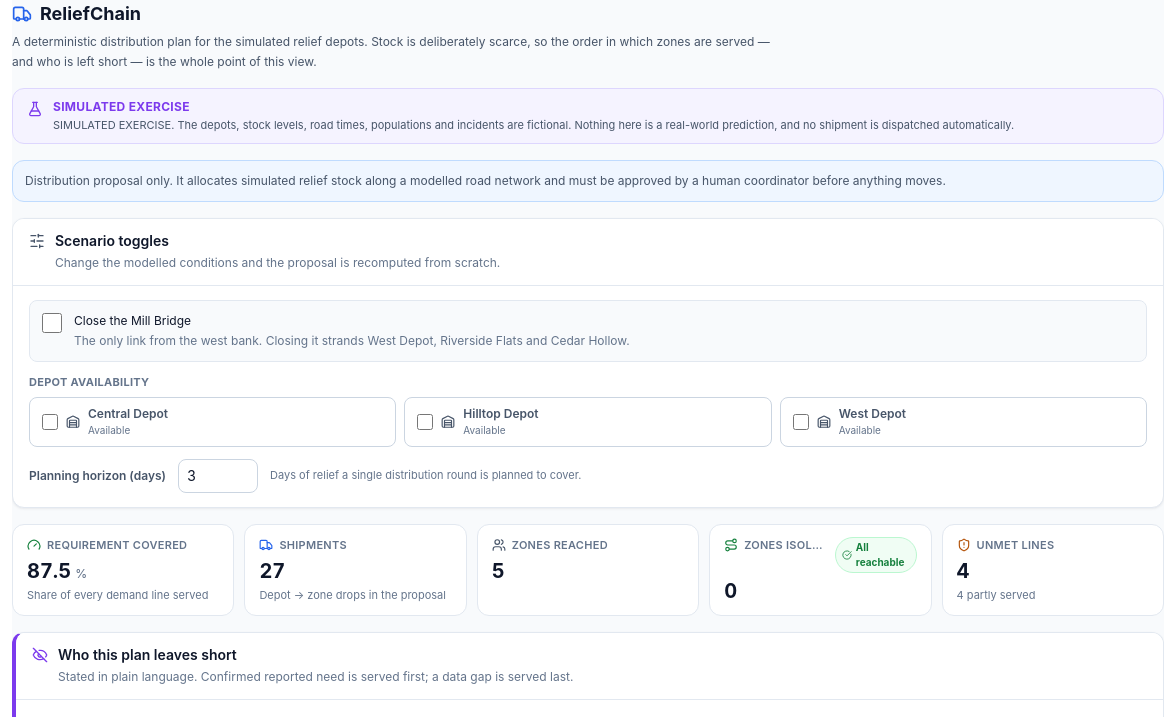
Test: ReliefChain — honesty of the proposal › recomputes from the scenario and surfaces the closed segment as a constraint
The image size is (1164, 717).
Expected: the text "Distribution proposal only. It allocates simulated relief stock along a modelled road network and must be approved by a " is shown, x1=25 y1=173 x2=946 y2=188
Click the checkbox labelled "Close the Mill Bridge".
click(52, 323)  # box x1=42 y1=313 x2=62 y2=333
(page scrolled)
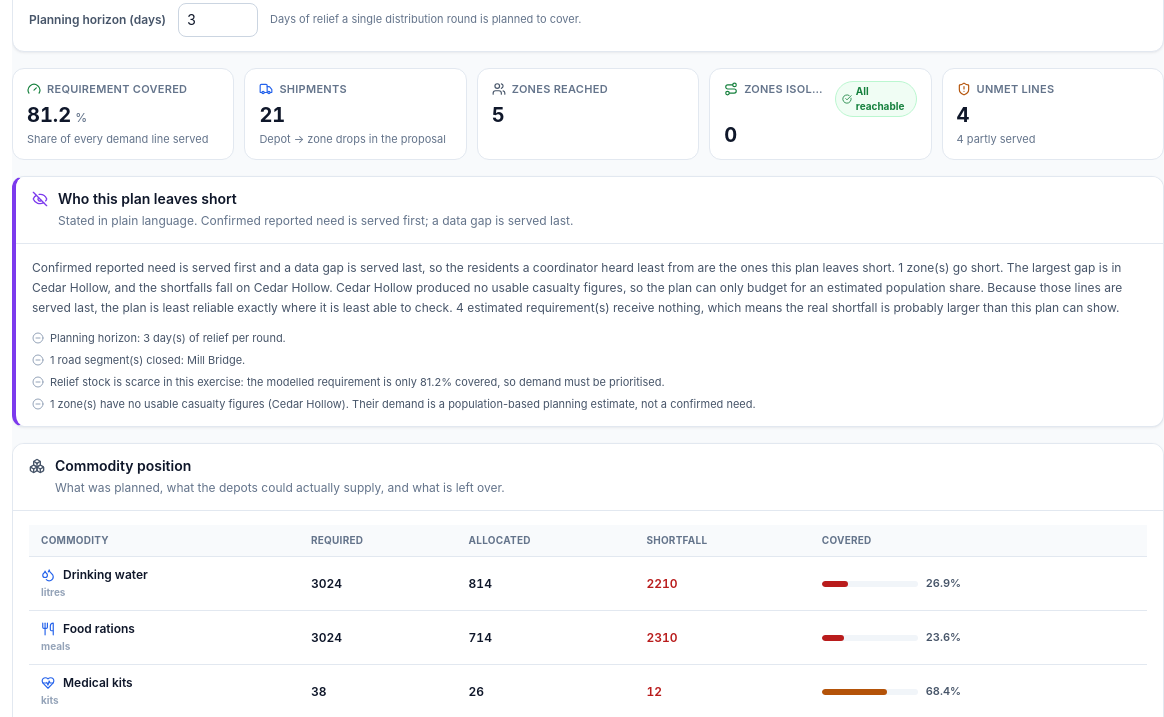
Result: the text "1 road segment(s) closed: Mill Bridge." is shown at x1=50 y1=352 x2=245 y2=368
